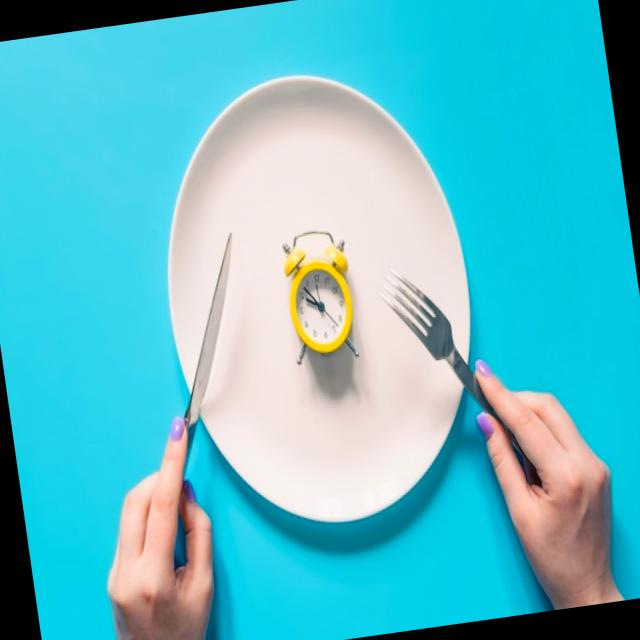fork: (376, 248, 563, 530)
